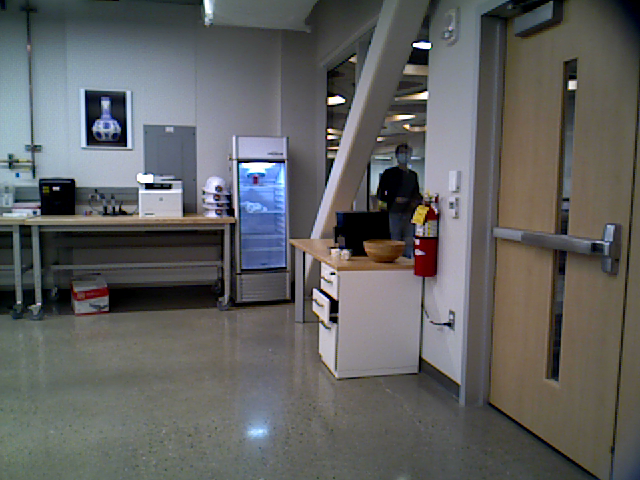painting2: (80, 91, 131, 148)
